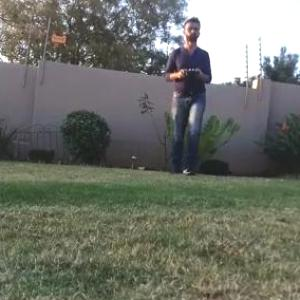follow: (158, 12, 215, 180)
